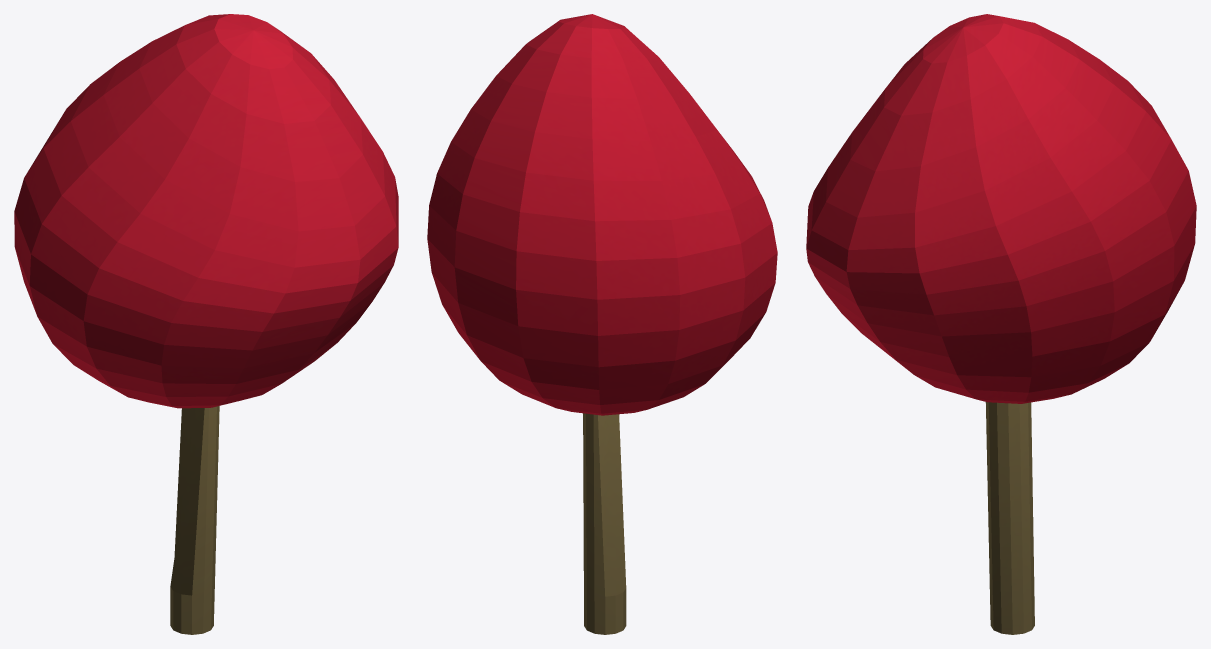
File: SM_Tree02.fbx
3 views of the same model, side by side, from view 1: azimuth 30°, elevation 25°; view 2: azimuth 150°, elevation 25°; view 3: azimuth 270°, elevation 25° (orthographic). The views are drawn at different scales.
Parts seen in each view (by area): view 1: Tree02; view 2: Tree02; view 3: Tree02.
Part boxes in pixels (left/top/right/bottom): Tree02: left=14, top=14, right=398, bottom=634; Tree02: left=427, top=14, right=777, bottom=634; Tree02: left=806, top=14, right=1196, bottom=634.
Bounding box in the file's own units: 243 × 441 × 252.
